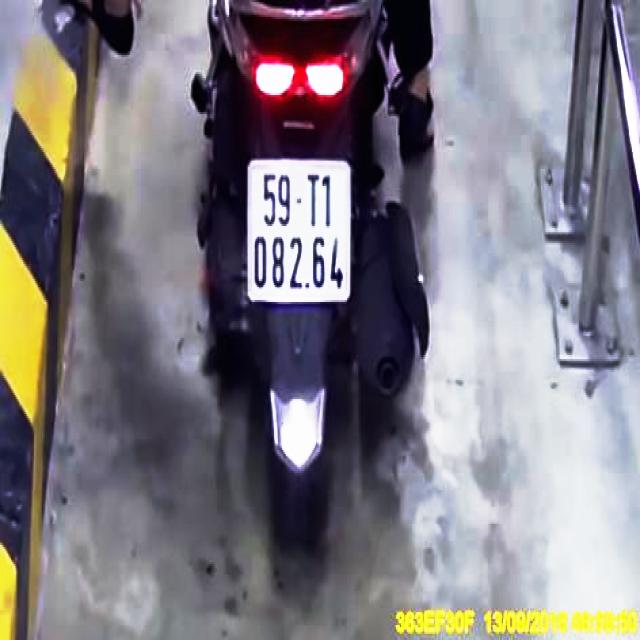license_plate: (249, 158, 352, 305)
